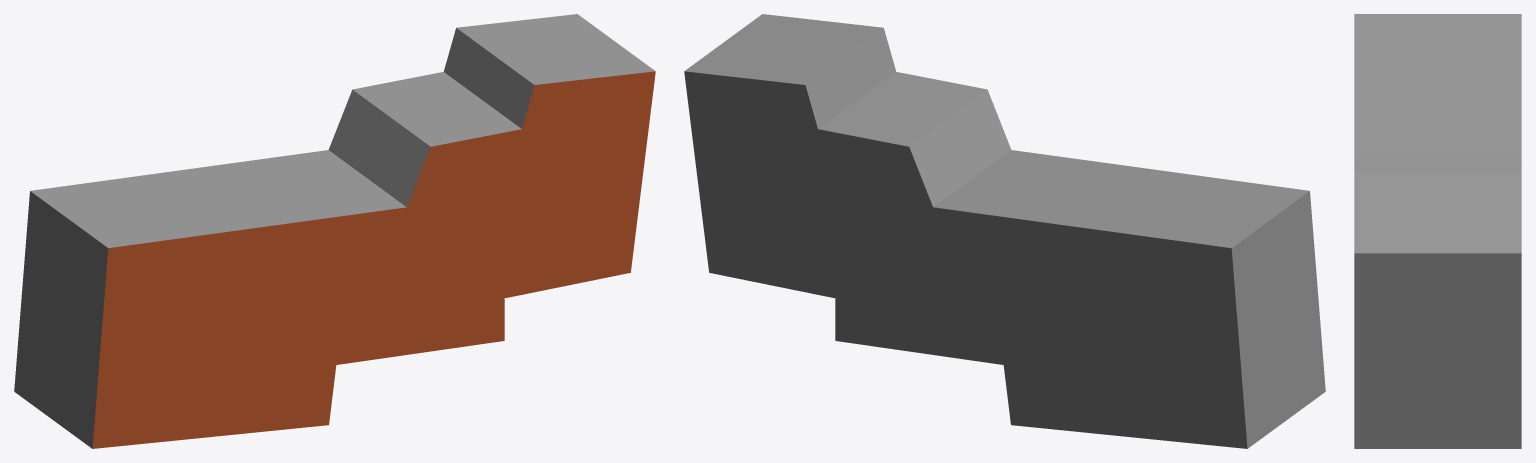
Rendered from construction_1267_assumed_A_Casa_h6m.obj.
3 renders of one model, left to right at view 1: azimuth 30°, elevation 25°; view 2: azimuth 150°, elevation 25°; view 3: azimuth 270°, elevation 25°, orthographic. The views are drawn at different scales.
Visible parts, largest first — view 1: construction_1267_assumed_A_Casa; view 2: construction_1267_assumed_A_Casa; view 3: construction_1267_assumed_A_Casa.
Part boxes in pixels (box(x1,y1,x2,y2)): construction_1267_assumed_A_Casa: box(14, 14, 655, 448); construction_1267_assumed_A_Casa: box(684, 14, 1325, 448); construction_1267_assumed_A_Casa: box(1354, 14, 1521, 448).
Size of the model in its own units: 24.92 by 12.26 by 6.
